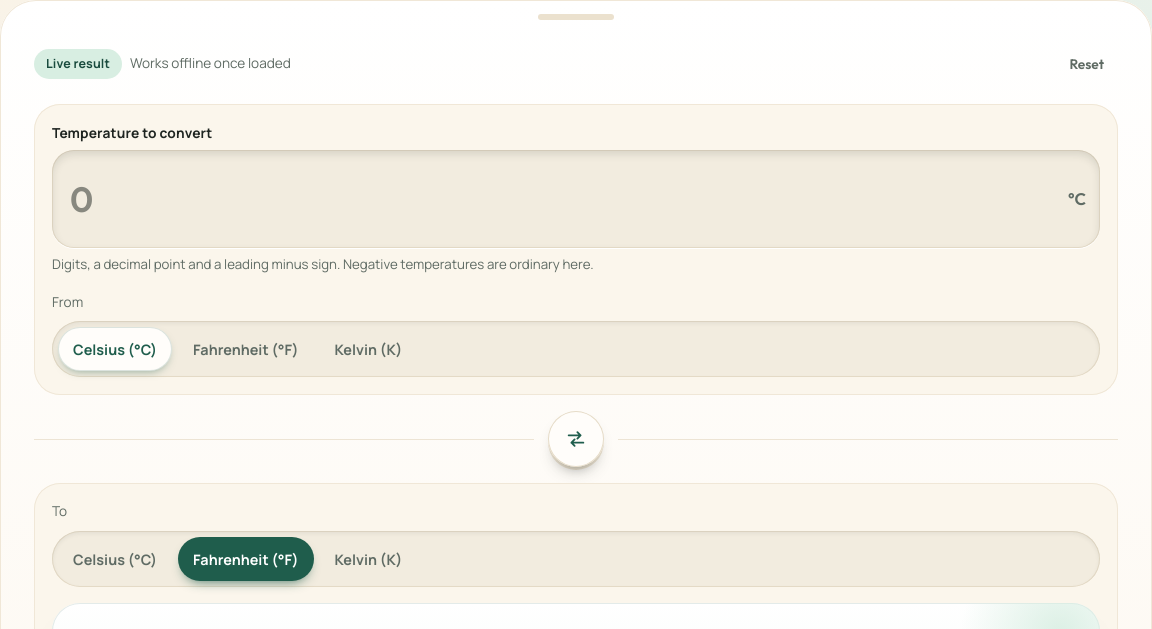
TemperatureConverter › copies exactly the number on screen, with no scale symbol
Step 1. Type "100" into the field labelled "Temperature to convert" → (563, 199), box x1=66 y1=158 x2=1060 y2=240
(page scrolled)
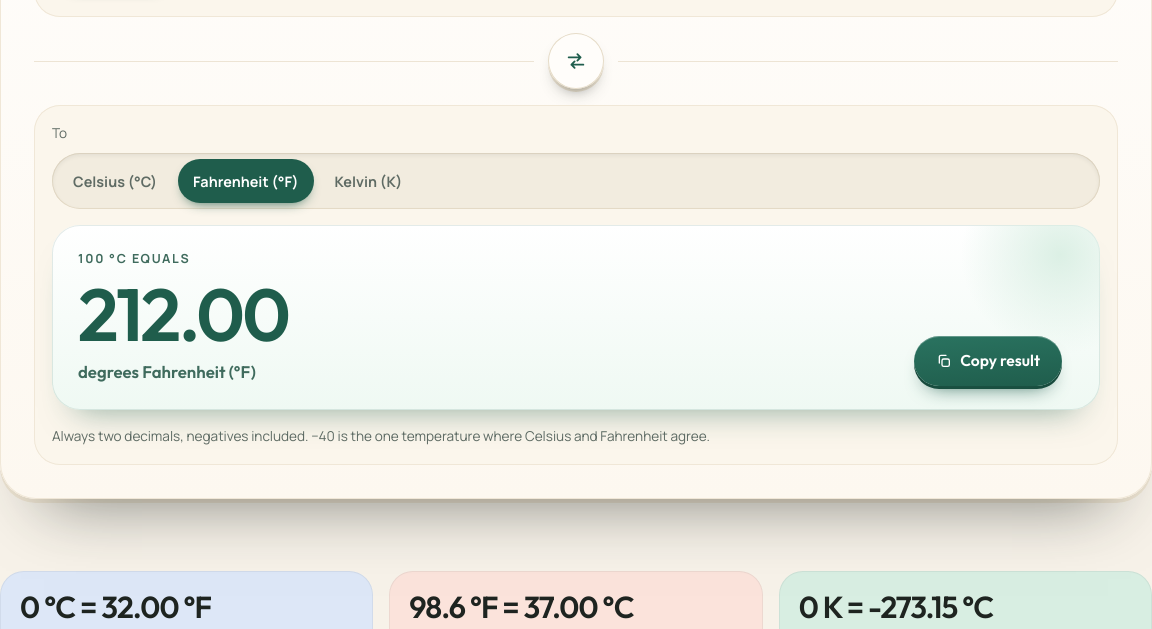
Step 2. Click the button "Copy result" → (988, 361), box x1=914 y1=336 x2=1062 y2=386
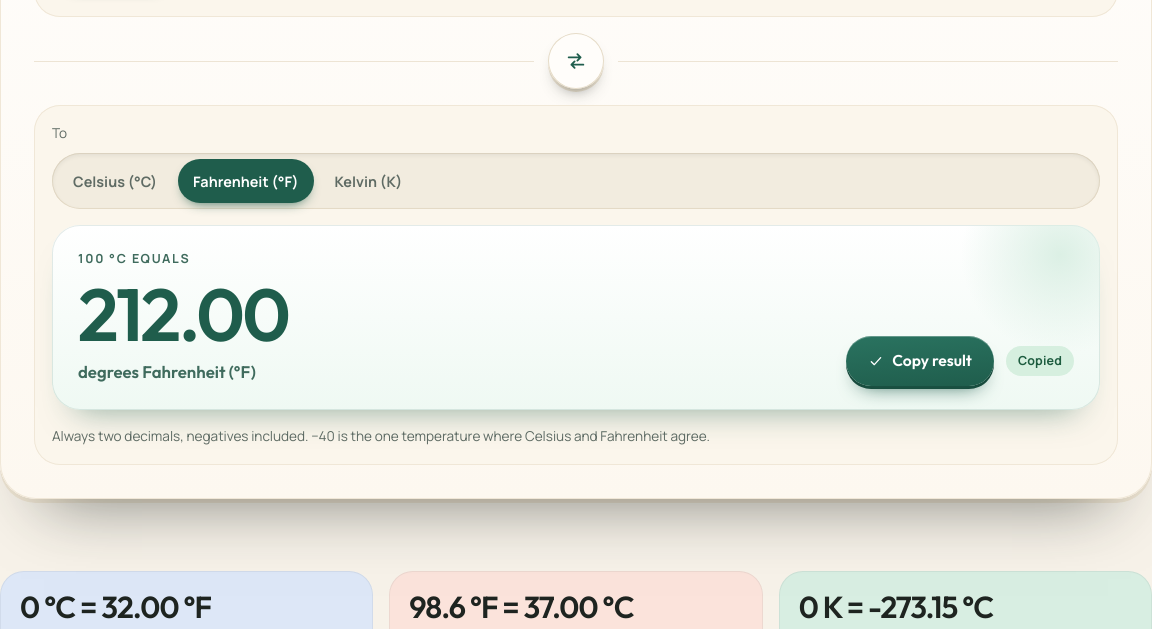
Check: the text "Copied" is shown, box x1=1006 y1=346 x2=1074 y2=376
